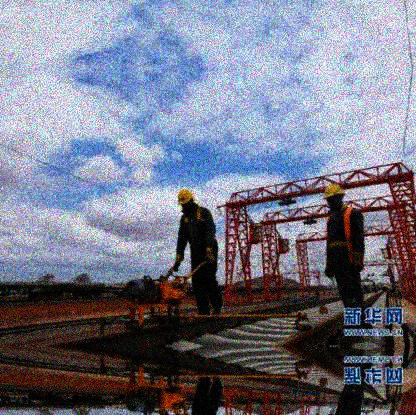helmet: (320, 185, 348, 207), (177, 187, 197, 210)
